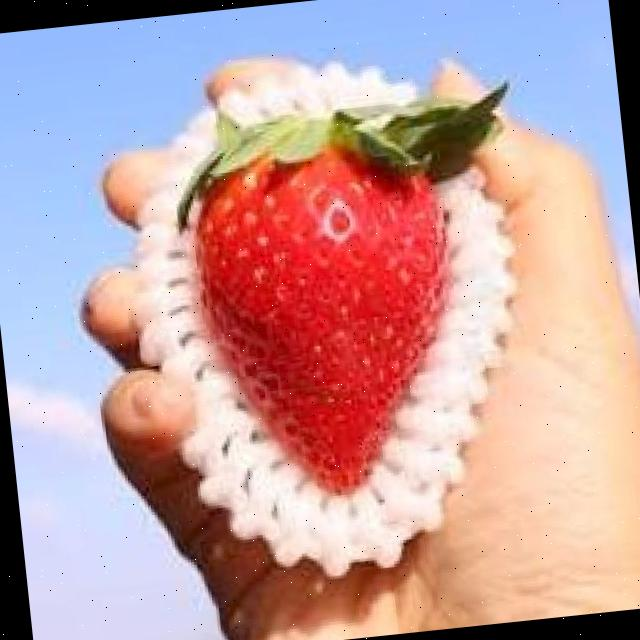strawberry: (183, 128, 470, 510)
